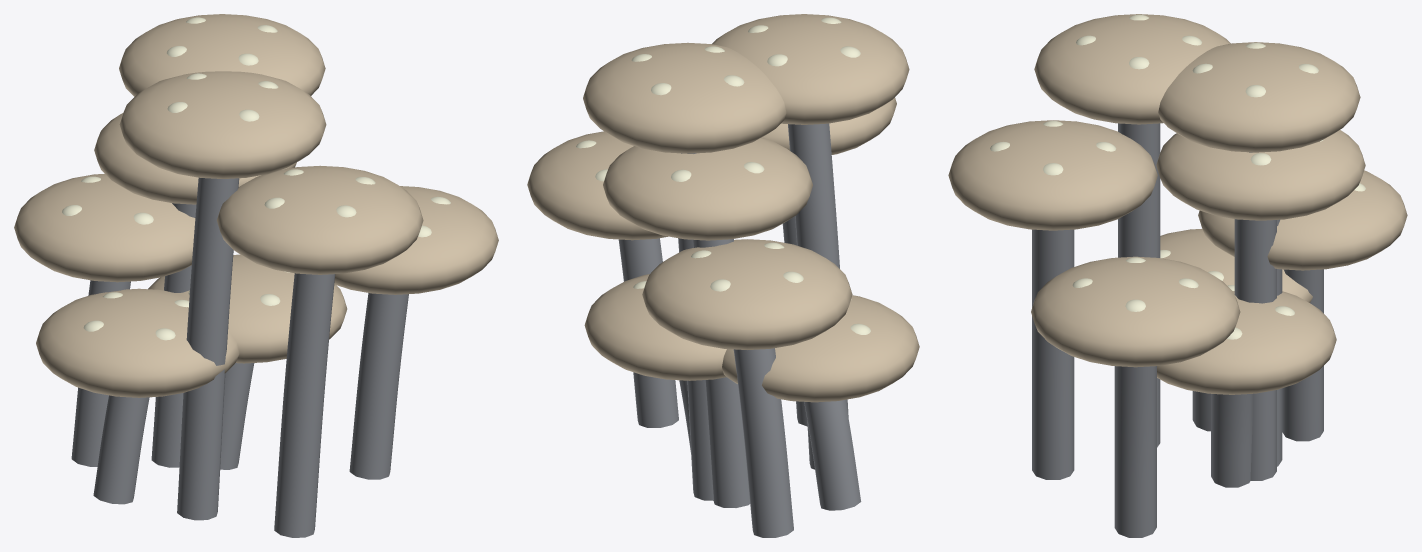
The model's file is bio_spore_fungus_11_near.glb.
3 views of the same model, side by side, from view 1: azimuth 30°, elevation 25°; view 2: azimuth 150°, elevation 25°; view 3: azimuth 270°, elevation 25° (orthographic).
Visible parts, largest first — view 1: Thick umbrella cap.002, Thick umbrella cap.007, Thick umbrella cap.004, Thick umbrella cap.001, Curved stipe.007, Curved stipe.002, Thick umbrella cap.003, Thick umbrella cap.005, Curved stipe.005, Thick umbrella cap, Curved stipe.004, Thick umbrella cap.006 (+7 smaller); view 2: Thick umbrella cap.001, Thick umbrella cap.003, Thick umbrella cap.006, Thick umbrella cap.007, Thick umbrella cap.004, Thick umbrella cap, Thick umbrella cap.005, Curved stipe.001, Curved stipe.007, Curved stipe.006, Curved stipe.004, Curved stipe.005 (+6 smaller); view 3: Thick umbrella cap.002, Thick umbrella cap.005, Thick umbrella cap.003, Thick umbrella cap.007, Thick umbrella cap.006, Thick umbrella cap, Thick umbrella cap.001, Curved stipe.002, Curved stipe.005, Curved stipe.003, Curved stipe, Curved stipe.007 (+8 smaller).
Part boxes in pixels (left/top/right/bottom): Thick umbrella cap.002: left=216, top=165, right=423, bottom=274; Thick umbrella cap.007: left=119, top=71, right=326, bottom=178; Thick umbrella cap.004: left=36, top=288, right=239, bottom=397; Thick umbrella cap.001: left=14, top=173, right=195, bottom=282; Curved stipe.007: left=177, top=177, right=239, bottom=520; Curved stipe.002: left=274, top=273, right=335, bottom=537; Thick umbrella cap.003: left=119, top=14, right=325, bottom=96; Thick umbrella cap.005: left=334, top=186, right=498, bottom=294; Curved stipe.005: left=349, top=293, right=408, bottom=479; Thick umbrella cap: left=148, top=254, right=347, bottom=363; Curved stipe.004: left=93, top=395, right=149, bottom=504; Thick umbrella cap.006: left=94, top=113, right=296, bottom=204; Thick umbrella cap.001: left=642, top=239, right=852, bottom=349; Thick umbrella cap.003: left=583, top=42, right=786, bottom=153; Thick umbrella cap.006: left=603, top=137, right=812, bottom=240; Thick umbrella cap.007: left=712, top=14, right=909, bottom=124; Thick umbrella cap.004: left=722, top=295, right=919, bottom=402; Thick umbrella cap: left=584, top=274, right=726, bottom=380; Thick umbrella cap.005: left=527, top=131, right=667, bottom=240; Curved stipe.001: left=733, top=348, right=793, bottom=537; Curved stipe.007: left=788, top=123, right=848, bottom=469; Curved stipe.006: left=693, top=239, right=750, bottom=507; Curved stipe.004: left=804, top=400, right=861, bottom=510; Curved stipe.005: left=618, top=238, right=678, bottom=427; Thick umbrella cap.002: left=948, top=120, right=1157, bottom=230; Thick umbrella cap.005: left=1031, top=256, right=1240, bottom=367; Thick umbrella cap.003: left=1158, top=42, right=1360, bottom=152; Thick umbrella cap.007: left=1034, top=14, right=1230, bottom=124; Thick umbrella cap.006: left=1156, top=130, right=1365, bottom=220; Thick umbrella cap: left=1157, top=291, right=1336, bottom=394; Thick umbrella cap.001: left=1198, top=170, right=1407, bottom=270; Curved stipe.002: left=1032, top=229, right=1074, bottom=479; Curved stipe.005: left=1114, top=366, right=1156, bottom=537; Curved stipe.003: left=1234, top=152, right=1276, bottom=480; Curved stipe: left=1211, top=394, right=1253, bottom=487; Curved stipe.007: left=1118, top=123, right=1160, bottom=447.
Bounding box in the file's own units: 1.86 × 1.87 × 1.84.
